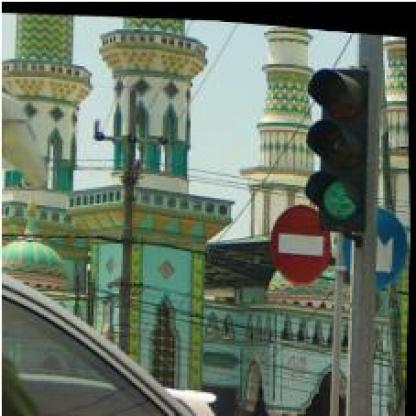green: (299, 52, 372, 226)
